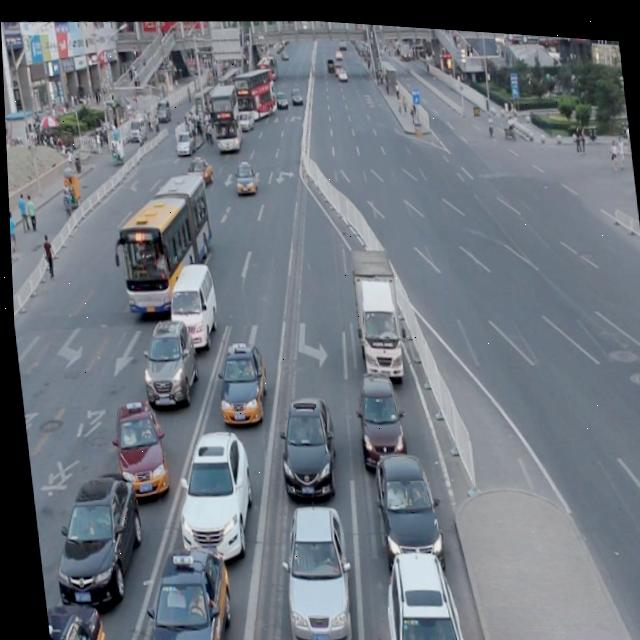bus: (346, 240, 403, 373)
car: (40, 462, 144, 608), (164, 419, 255, 562), (270, 491, 353, 640), (126, 534, 231, 640), (371, 533, 462, 640), (366, 438, 440, 561), (268, 384, 336, 496), (106, 392, 167, 497), (133, 310, 199, 406), (350, 359, 406, 468), (210, 334, 266, 421), (40, 594, 102, 640), (231, 156, 256, 193)
truck: (160, 253, 219, 349)
van: (112, 165, 217, 313)
